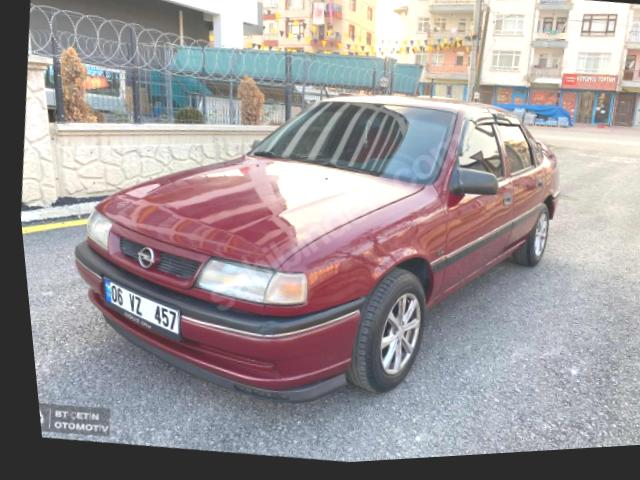plaka: (104, 278, 180, 340)
